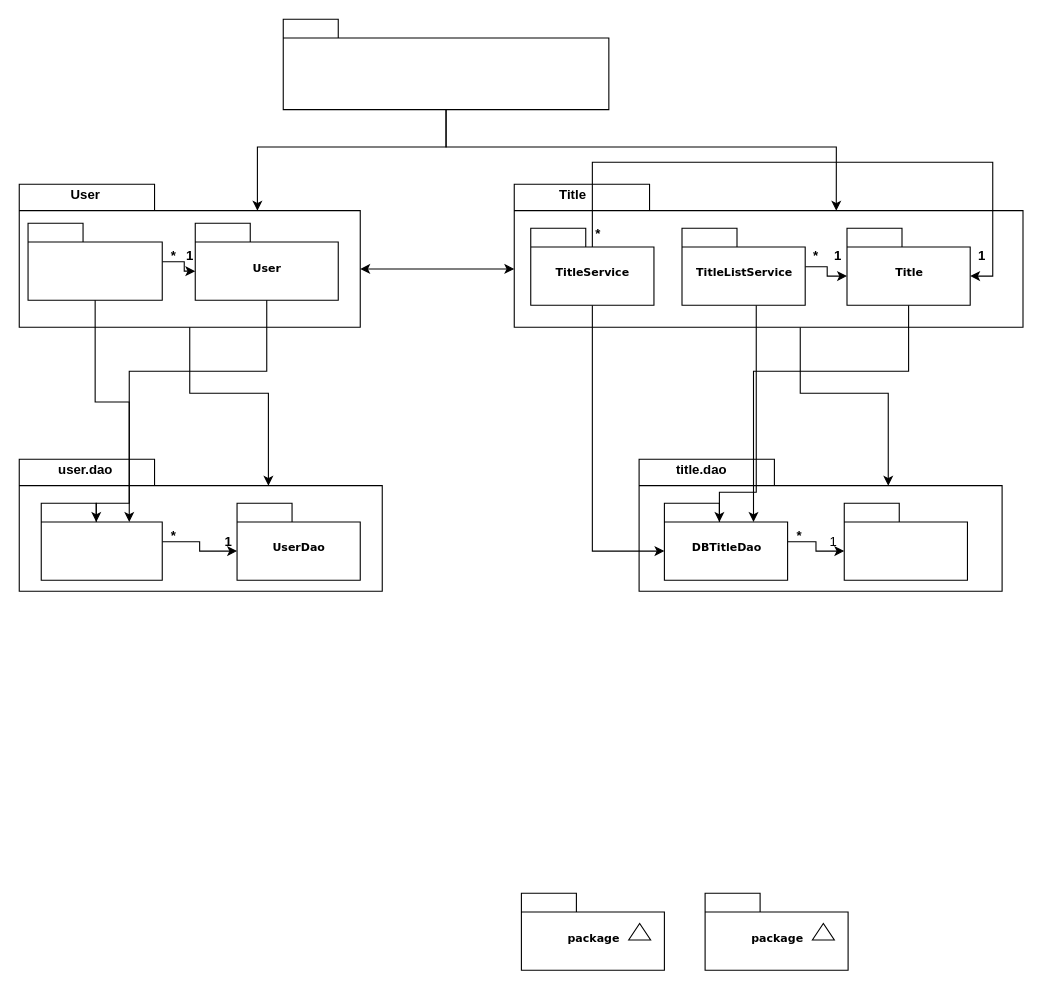
This 1062x990 diagram has some shape labels left out. The centre of each missing label's shape, as x and y in pixels:
"DBUserDao" goes at (x=101, y=541).
"TitleDao" goes at (x=905, y=541).
"UI" goes at (x=445, y=64).
"UserService" goes at (x=94, y=261).
